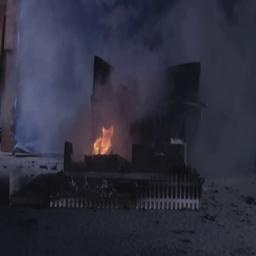fire: (85, 118, 129, 169)
smoke: (17, 2, 247, 117)
